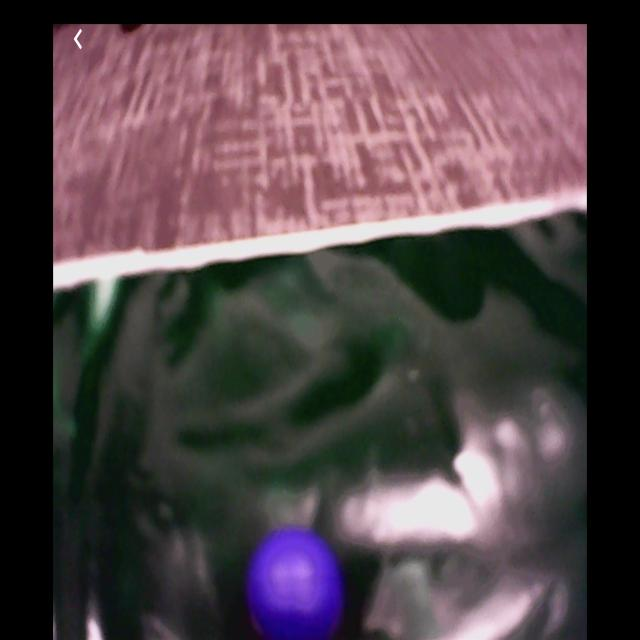ball: (250, 532, 346, 633)
